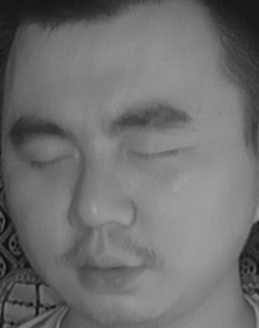blink: (123, 133, 187, 173), (21, 142, 76, 181)
mouth: (69, 239, 151, 298)
